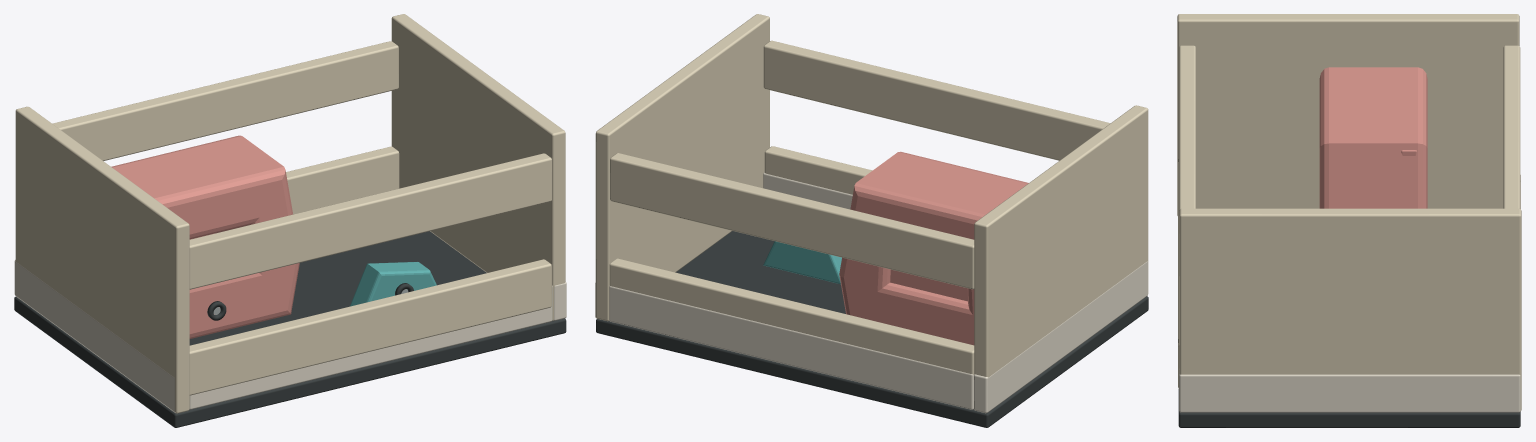
File: indoor-climbing-and-bouldering-gym-indoor-climbing-and-99f40c42__31536.glb
3 renders of one model, left to right at view 1: azimuth 30°, elevation 25°; view 2: azimuth 150°, elevation 25°; view 3: azimuth 270°, elevation 25°, orthographic. The views are drawn at different scales.
Visible parts, largest first — view 1: indoor-climbing-and-bouldering-gym-hold-storage-crate; view 2: indoor-climbing-and-bouldering-gym-hold-storage-crate; view 3: indoor-climbing-and-bouldering-gym-hold-storage-crate.
Boxes of the visible parts, left/top/right/bottom form: indoor-climbing-and-bouldering-gym-hold-storage-crate: left=14, top=14, right=566, bottom=427; indoor-climbing-and-bouldering-gym-hold-storage-crate: left=595, top=14, right=1148, bottom=427; indoor-climbing-and-bouldering-gym-hold-storage-crate: left=1177, top=14, right=1521, bottom=427.
Bounding box in the file's own units: 0.7011 × 0.345 × 0.5029.
